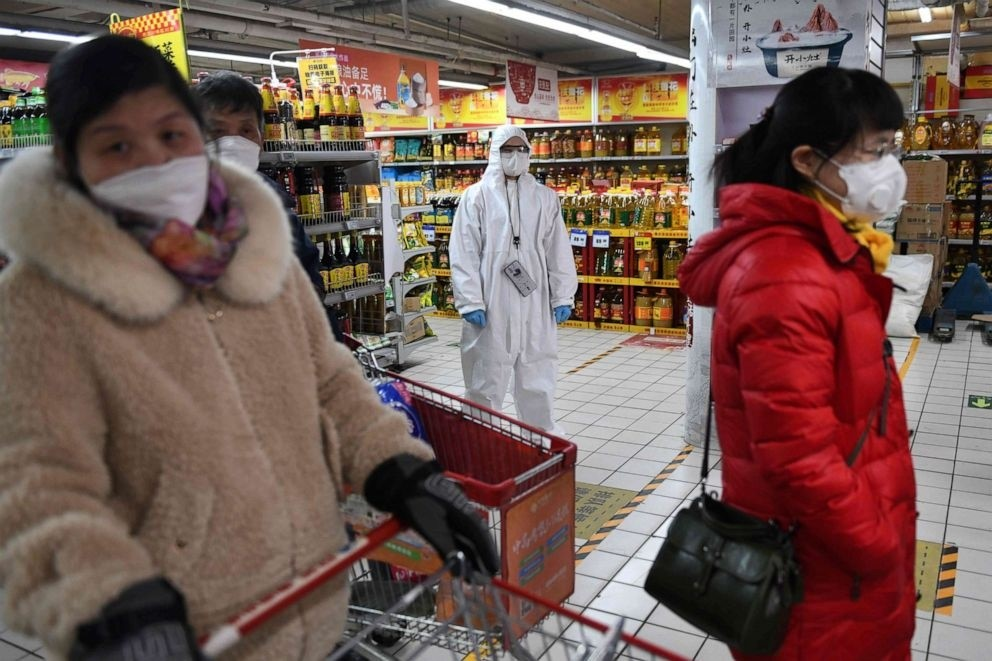face_with_mask: (45, 36, 220, 235), (798, 65, 909, 229), (195, 73, 262, 181), (487, 122, 538, 180)
